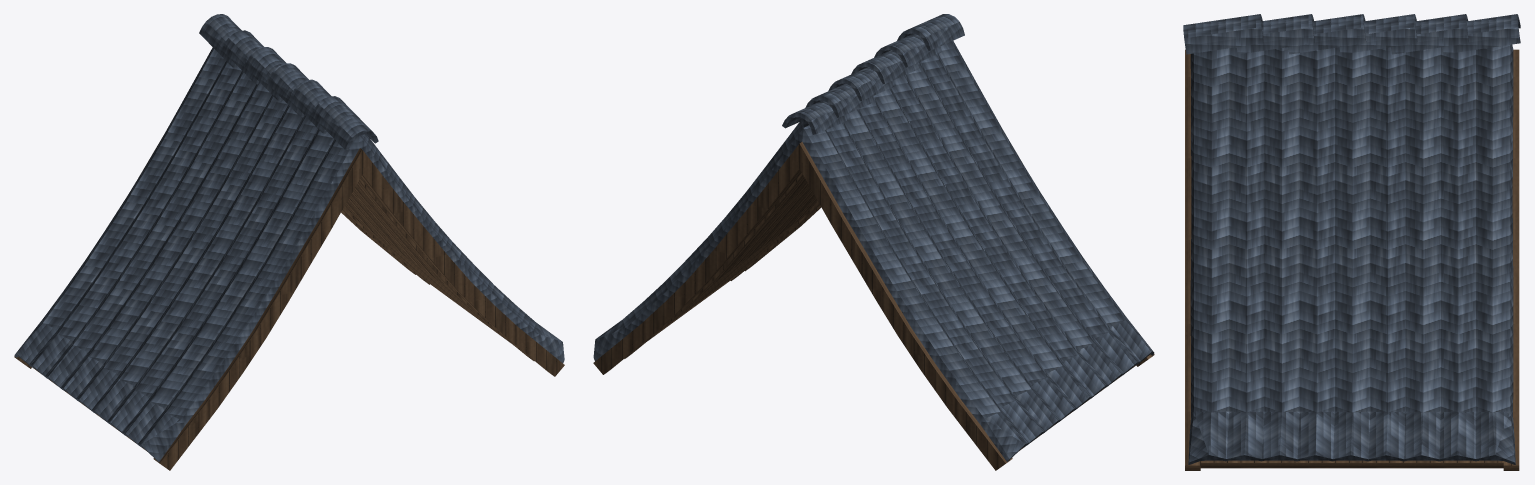
The model's file is Roof_Slate_6x4.gltf.
3 renders of one model, left to right at view 1: azimuth 30°, elevation 25°; view 2: azimuth 150°, elevation 25°; view 3: azimuth 270°, elevation 25°, orthographic. The views are drawn at different scales.
Parts seen in each view (by area): view 1: Roof_Slate_6x4; view 2: Roof_Slate_6x4; view 3: Roof_Slate_6x4.
Part boxes in pixels (box(x1,y1,x2,y2)): Roof_Slate_6x4: box(14, 14, 564, 470); Roof_Slate_6x4: box(593, 14, 1154, 470); Roof_Slate_6x4: box(1183, 14, 1520, 470).
Bounding box in the file's own units: 8.25 × 5.67 × 4.99.
Materials: 2 (2 with a texture image).
